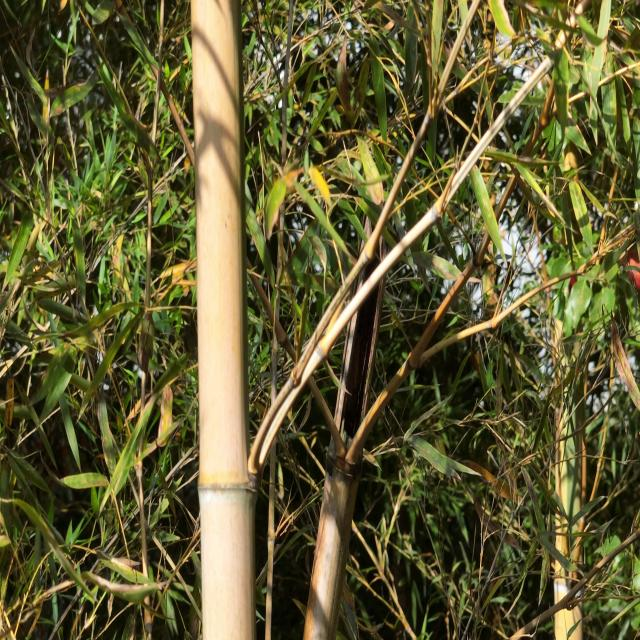Bamboo-shoots: (190, 0, 255, 640)
